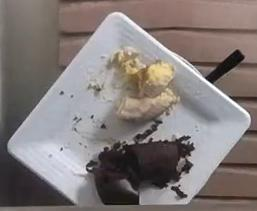donut: (86, 48, 194, 204)
